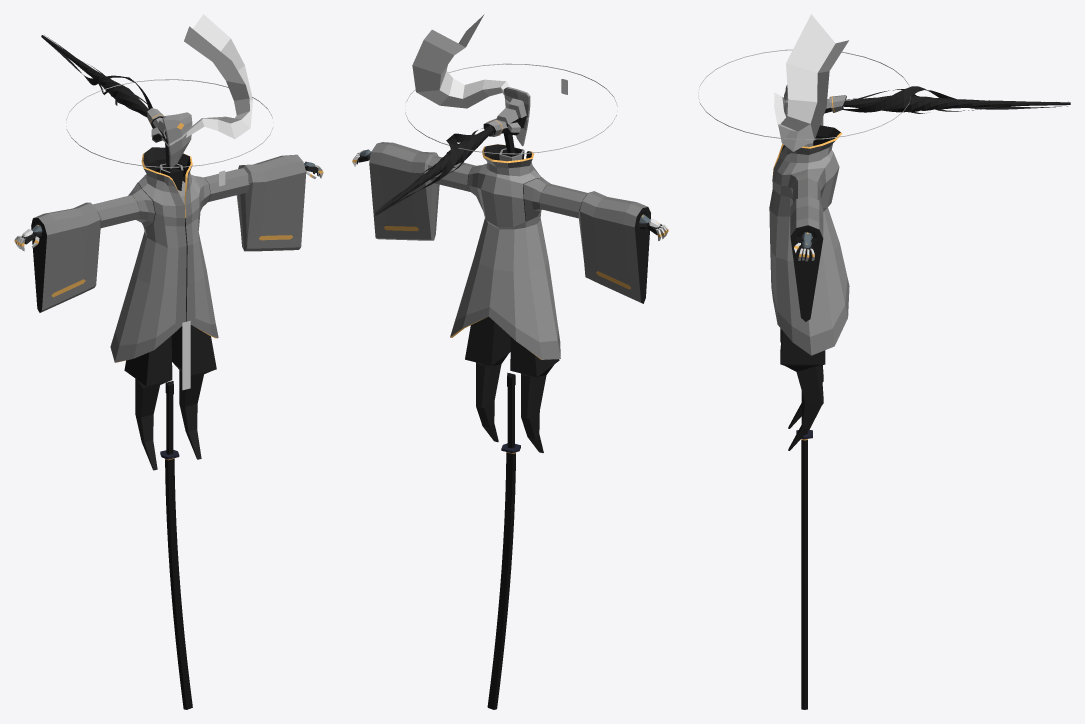
Rendered from GEKKOU_lowpoly.fbx.
The picture shows the model from 3 angles, left to right: view 1: azimuth 30°, elevation 25°; view 2: azimuth 150°, elevation 25°; view 3: azimuth 270°, elevation 25°; orthographic projection. The views are drawn at different scales.
Parts seen in each view (by area): view 1: Circle, Circle.007, Circle.004, BezierCurve.001, Cube.032, BezierCurve, legs.001, legs, legs.003, legs.002, Cube.002, Circle.006 (+5 smaller); view 2: Circle, Circle.007, Circle.004, BezierCurve.001, Cube.032, BezierCurve, legs, legs.002, legs.003, Circle.006, legs.001, Circle.002 (+4 smaller); view 3: Circle, BezierCurve.001, BezierCurve, Circle.004, Cube.032, legs.002, legs.
Boxes of the visible parts, x1,y1,x2,y2 form: Circle: (110, 147, 218, 362); Circle.007: (31, 202, 101, 312); Circle.004: (236, 154, 306, 251); BezierCurve.001: (171, 14, 252, 146); Cube.032: (165, 458, 192, 709); BezierCurve: (41, 35, 152, 117); legs.001: (124, 336, 172, 386); legs: (171, 325, 216, 375); legs.003: (135, 378, 166, 470); legs.002: (173, 363, 210, 459); Cube.002: (162, 112, 192, 168); Circle.006: (93, 195, 140, 228); Circle: (450, 144, 560, 359); Circle.007: (578, 191, 650, 303); Circle.004: (369, 142, 439, 240); BezierCurve.001: (412, 14, 509, 108); Cube.032: (487, 452, 515, 709); BezierCurve: (374, 126, 494, 215); legs: (465, 316, 510, 365); legs.002: (476, 353, 508, 442); legs.003: (521, 364, 554, 452); Circle.006: (539, 184, 587, 218); legs.001: (510, 337, 559, 376); Circle.002: (428, 156, 476, 191); Circle: (769, 125, 849, 355); BezierCurve.001: (774, 14, 848, 151); BezierCurve: (842, 86, 1070, 113); Circle.004: (790, 196, 823, 321); Cube.032: (801, 439, 807, 709); legs.002: (785, 365, 823, 450); legs: (780, 330, 825, 365).
Size of the model in its own units: 164 by 351 by 171.
